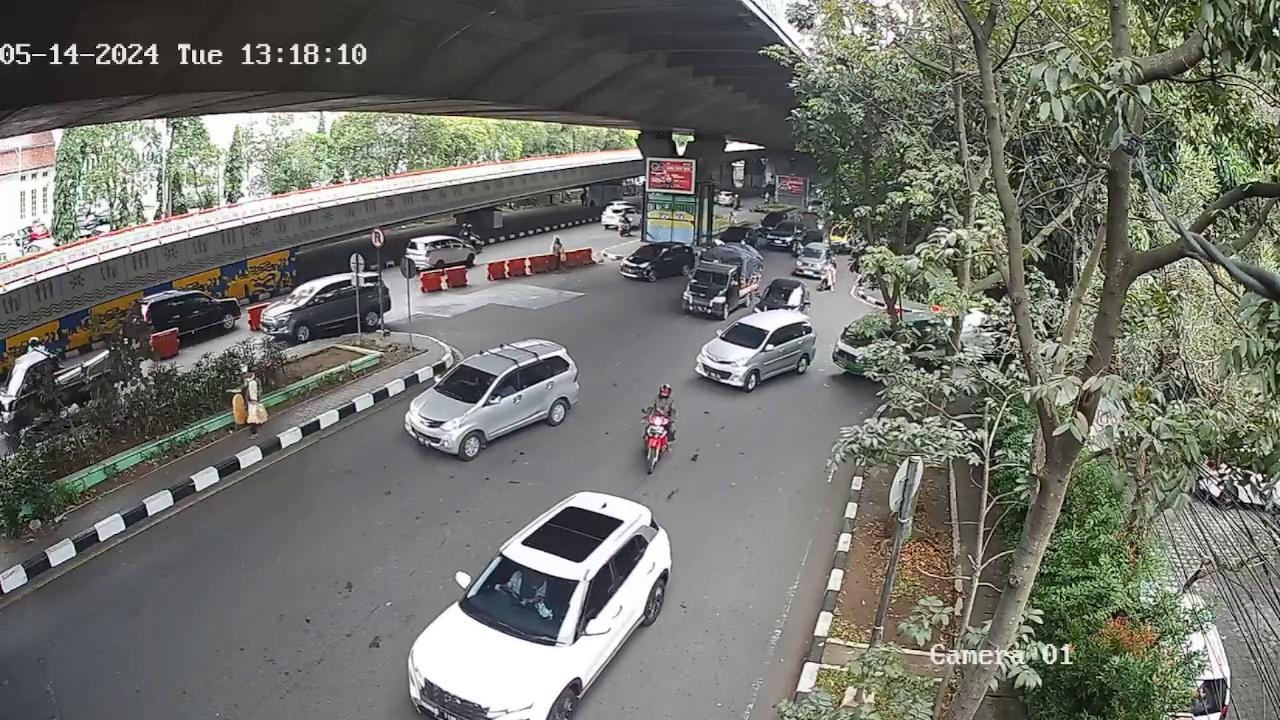tidak-pakai: (502, 569, 544, 608)
windshield: (460, 552, 581, 643), (434, 366, 495, 402)
